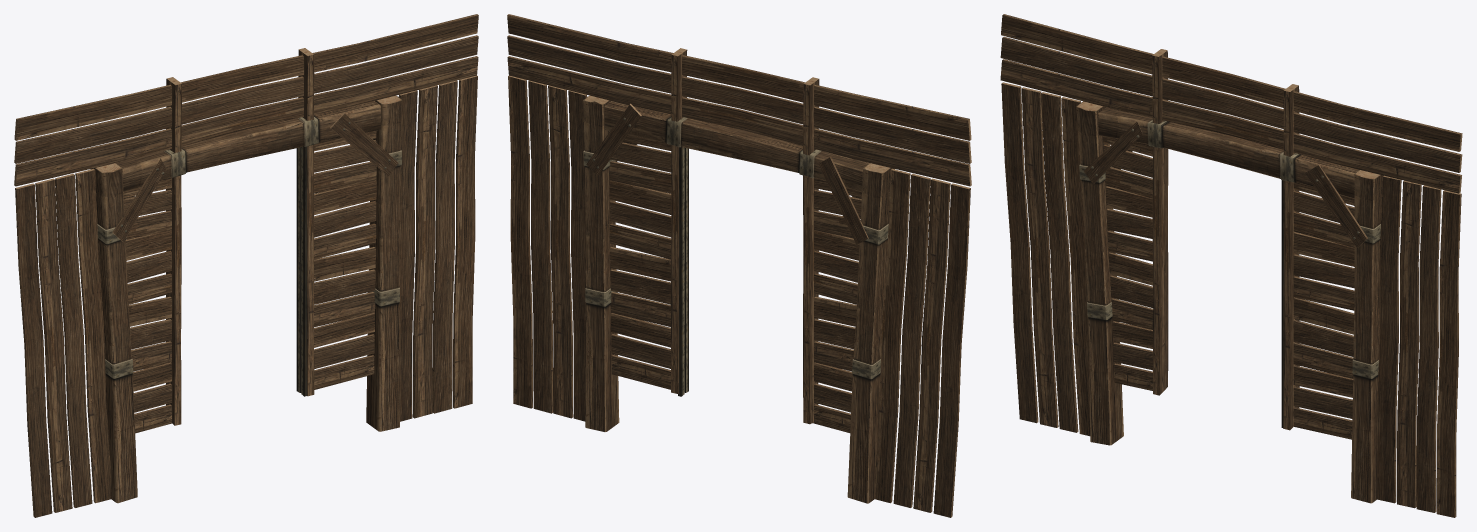
The model's file is WoodenGate.obj.
3 renders of one model, left to right at view 1: azimuth 30°, elevation 25°; view 2: azimuth 150°, elevation 25°; view 3: azimuth 330°, elevation 25°, orthographic.
Parts seen in each view (by area): view 1: WoodenGate; view 2: WoodenGate; view 3: WoodenGate.
Boxes of the visible parts, x1,y1,x2,y2 form: WoodenGate: (14,14,478,517); WoodenGate: (507,14,971,517); WoodenGate: (1000,14,1462,517).
Bounding box in the file's own units: 3.4 × 2.82 × 0.2118.
